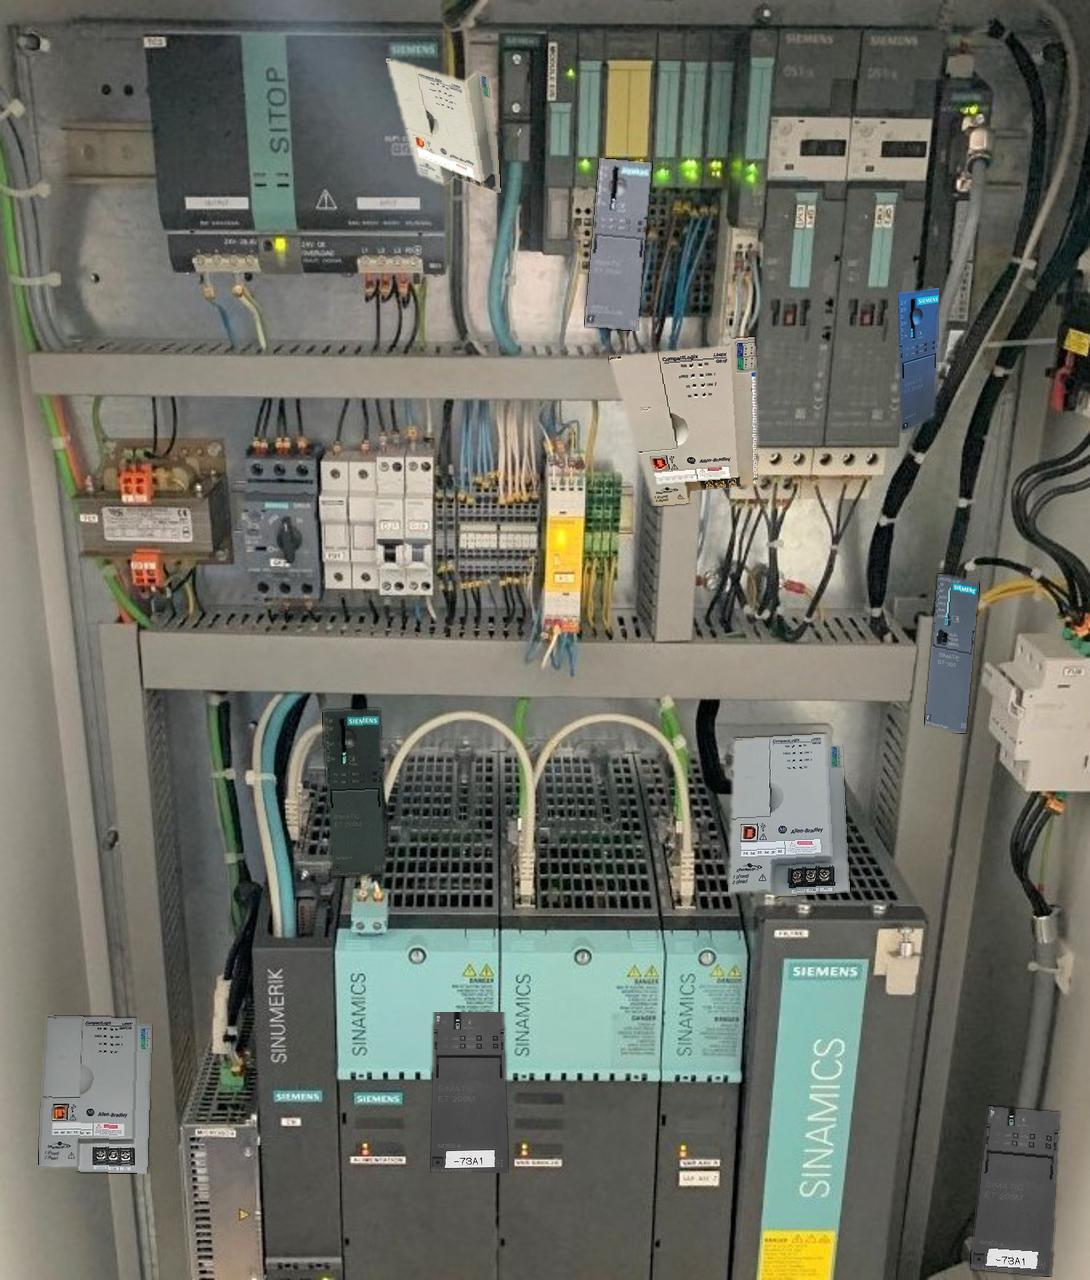AllenBradley: (609, 337, 757, 505), (728, 734, 849, 896), (38, 1016, 150, 1173), (386, 58, 500, 192)
Siemens: (925, 574, 978, 732)
